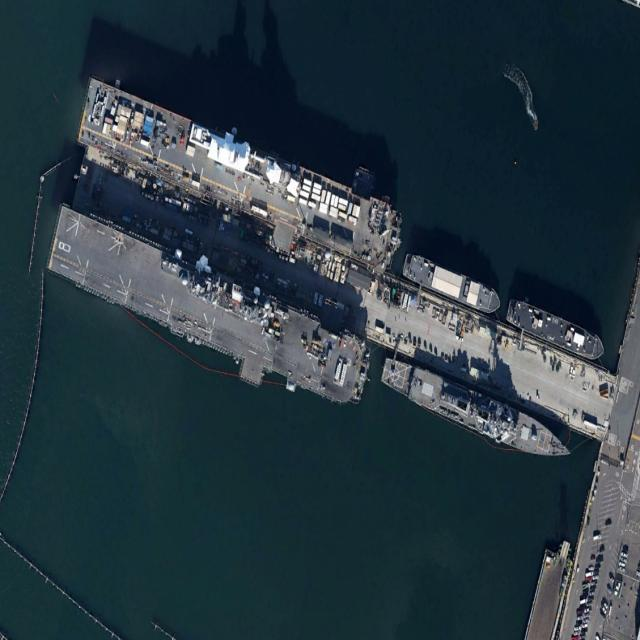Destroyer: (378, 348, 576, 473)
Landing: (71, 52, 410, 294), (43, 196, 374, 430)
Other Ship: (505, 294, 608, 366), (401, 250, 504, 318)
